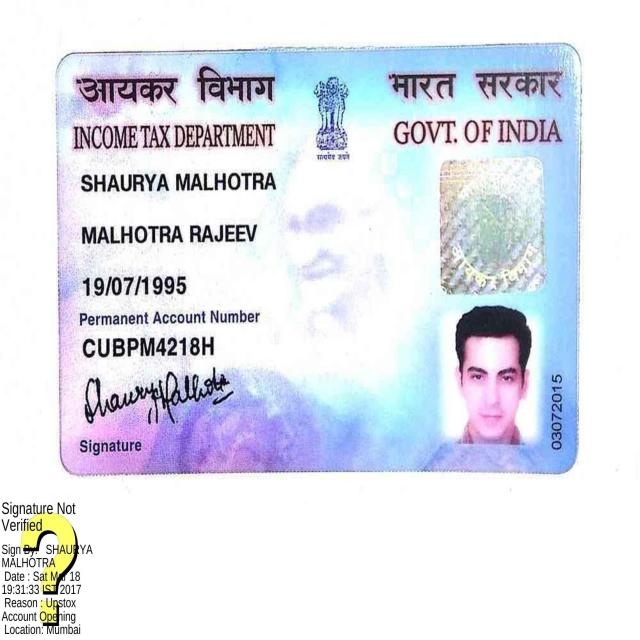pan_card: (62, 50, 573, 463)
